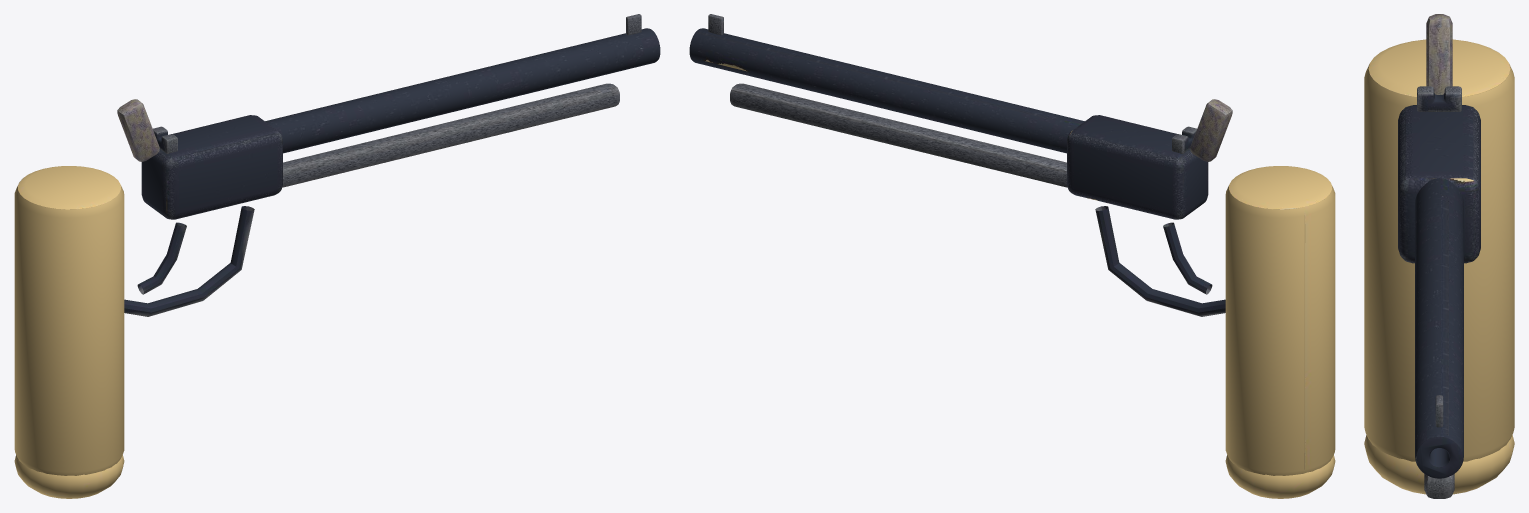
File: airpistol.glb
The picture shows the model from 3 angles, left to right: view 1: azimuth 30°, elevation 25°; view 2: azimuth 150°, elevation 25°; view 3: azimuth 270°, elevation 25°; orthographic projection. The views are drawn at different scales.
Visible parts, largest first — view 1: reservoir, barrel, barrel_block, pump_lever, trigger_guard, reservoir_cap, hammer, trigger; view 2: reservoir, barrel, barrel_block, pump_lever, trigger_guard, reservoir_cap, hammer, trigger; view 3: reservoir, barrel, barrel_block, reservoir_cap, hammer, rear_sight, pump_lever, front_sight.
Part boxes in pixels (x1=…): reservoir: x1=14, y1=166, x2=124, y2=475; barrel: x1=265, y1=28, x2=660, y2=153; barrel_block: x1=141, y1=115, x2=282, y2=219; pump_lever: x1=282, y1=83, x2=619, y2=187; trigger_guard: x1=124, y1=206, x2=254, y2=316; reservoir_cap: x1=14, y1=455, x2=124, y2=498; hammer: x1=117, y1=99, x2=159, y2=161; trigger: x1=137, y1=222, x2=186, y2=294; reservoir: x1=1225, y1=166, x2=1335, y2=475; barrel: x1=689, y1=28, x2=1084, y2=153; barrel_block: x1=1067, y1=115, x2=1208, y2=219; pump_lever: x1=730, y1=83, x2=1067, y2=187; trigger_guard: x1=1095, y1=206, x2=1225, y2=316; reservoir_cap: x1=1225, y1=455, x2=1335, y2=498; hammer: x1=1190, y1=99, x2=1232, y2=161; trigger: x1=1163, y1=222, x2=1212, y2=294; reservoir: x1=1364, y1=39, x2=1514, y2=461; barrel: x1=1415, y1=178, x2=1463, y2=478; barrel_block: x1=1398, y1=105, x2=1480, y2=263; reservoir_cap: x1=1364, y1=435, x2=1514, y2=494; hammer: x1=1426, y1=14, x2=1452, y2=94; rear_sight: x1=1417, y1=86, x2=1461, y2=111; pump_lever: x1=1424, y1=474, x2=1454, y2=498; front_sight: x1=1435, y1=395, x2=1443, y2=427.
Bounding box in the file's own units: 0.265 × 0.1501 × 0.04.
1 material, 1 textured.
